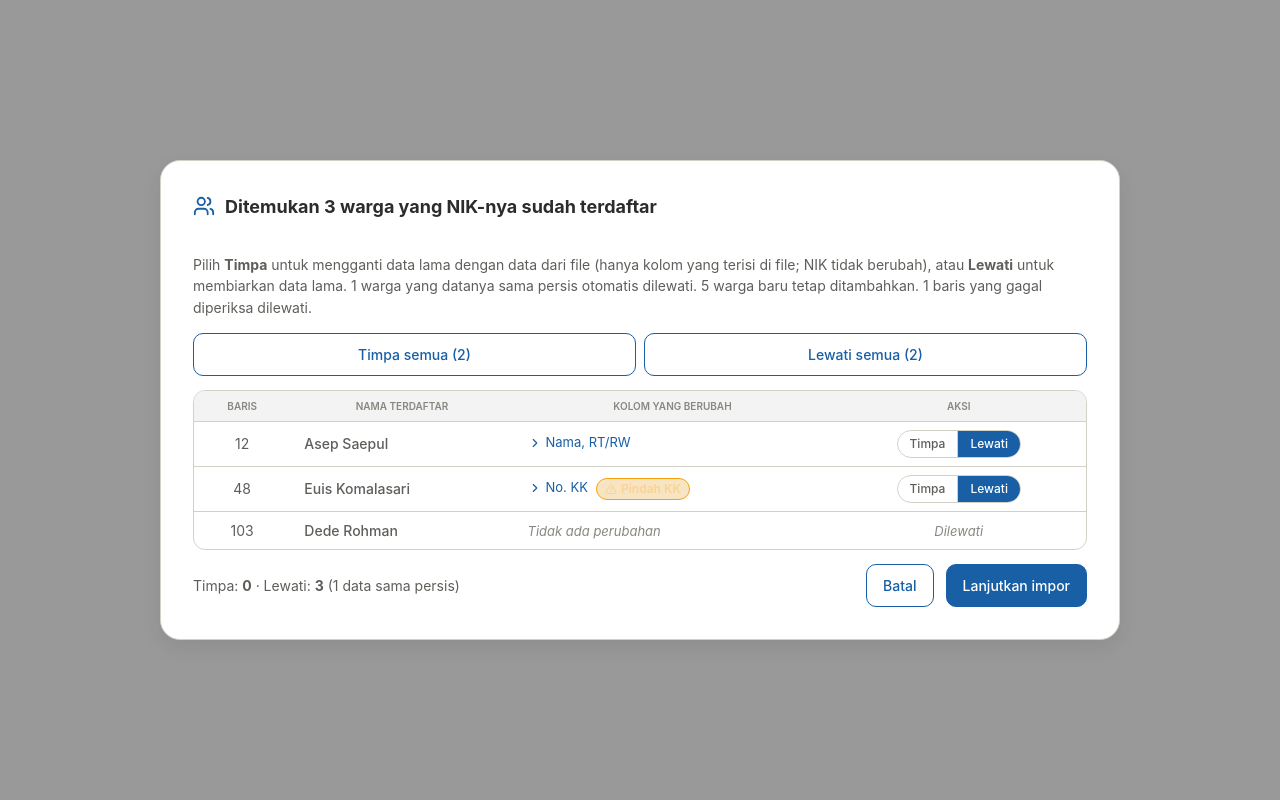
Test case: ImportConflictDialog › applies bulk choices and per-row exceptions
Later steps or results of the test are not shown.
Click the button "Timpa semua (2)".
click(414, 354)  # box 193,333 -> 636,376
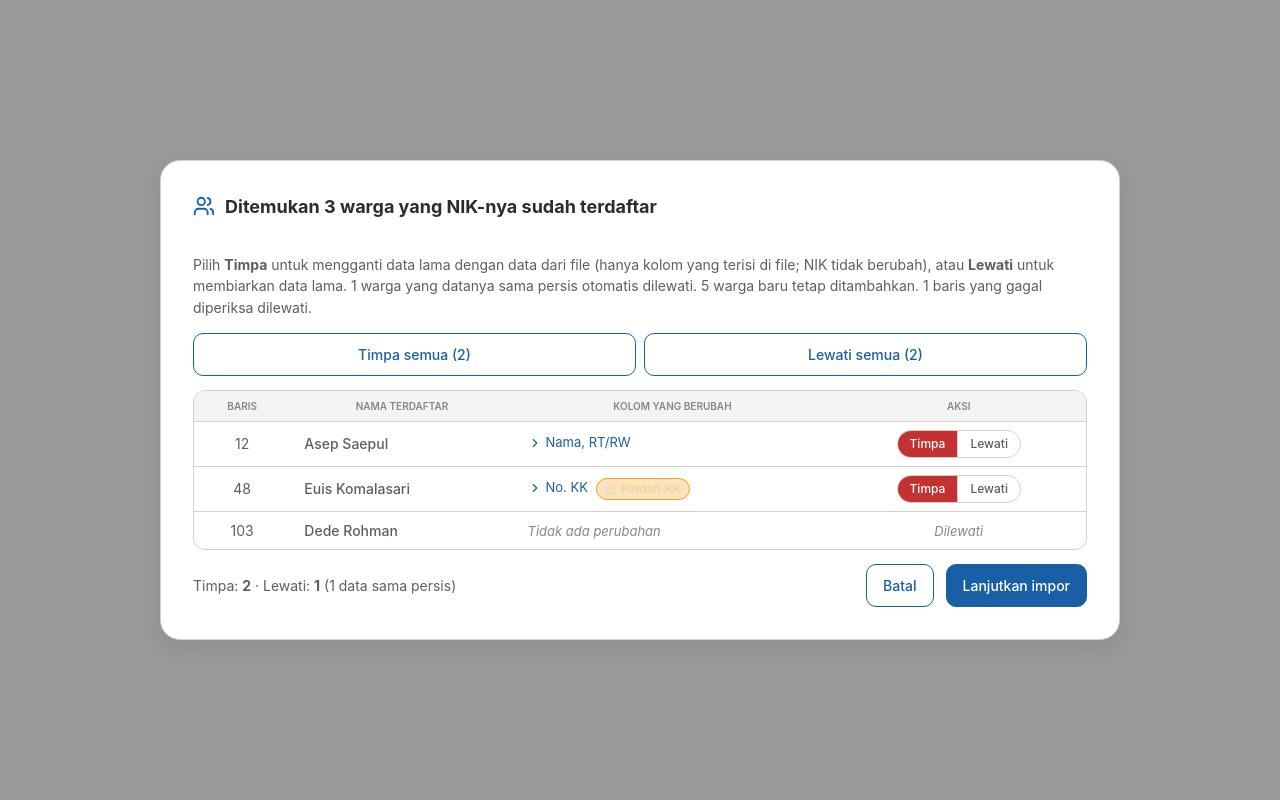
Now the text "Timpa: 2 · Lewati: 1 (1 data sama persis)" is shown, box 193,575 -> 456,596
